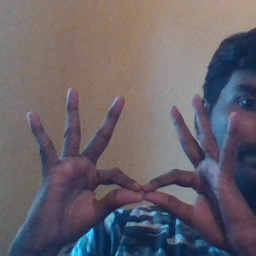B: (85, 134, 209, 231)
